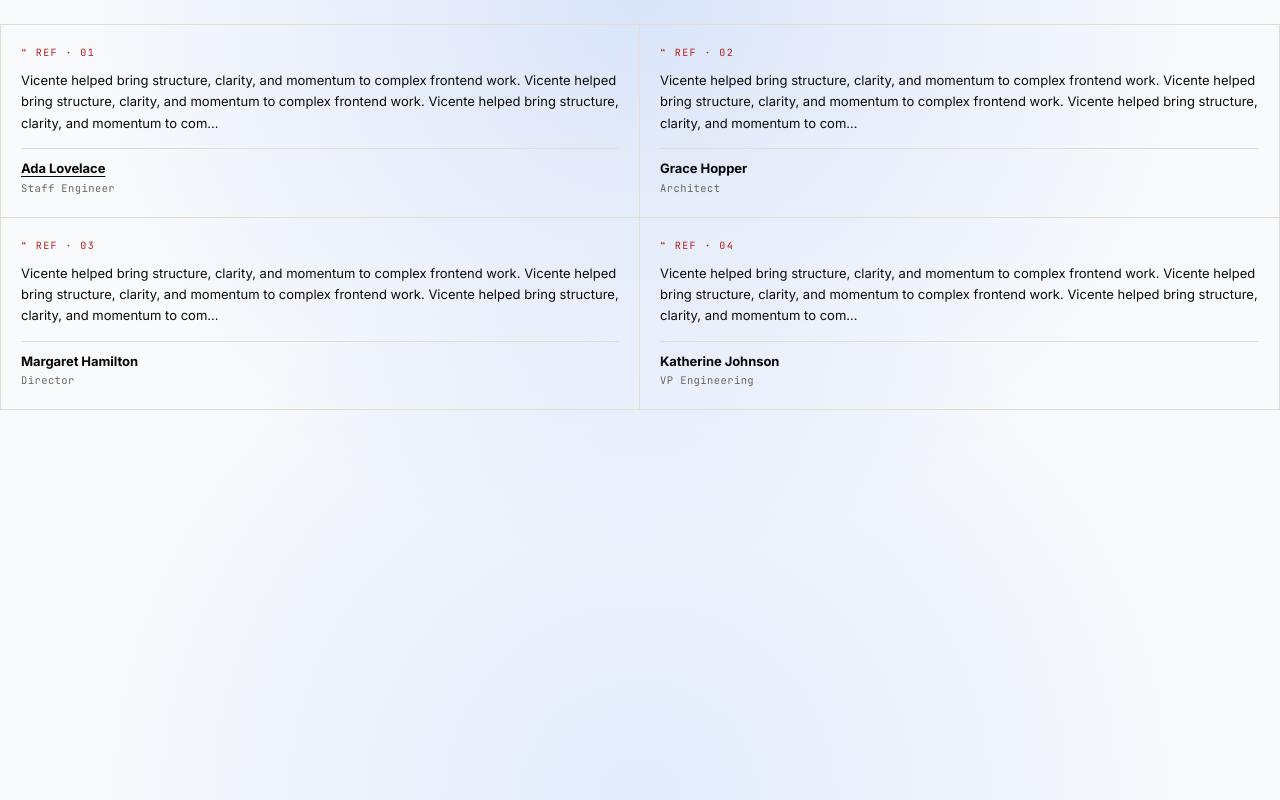
Test: CvRefsGrid › toggles expanded state on click, Enter, and Space
Click the button that starts with "❝ REF ·".
click(51, 52)  # box [1,25,640,218]
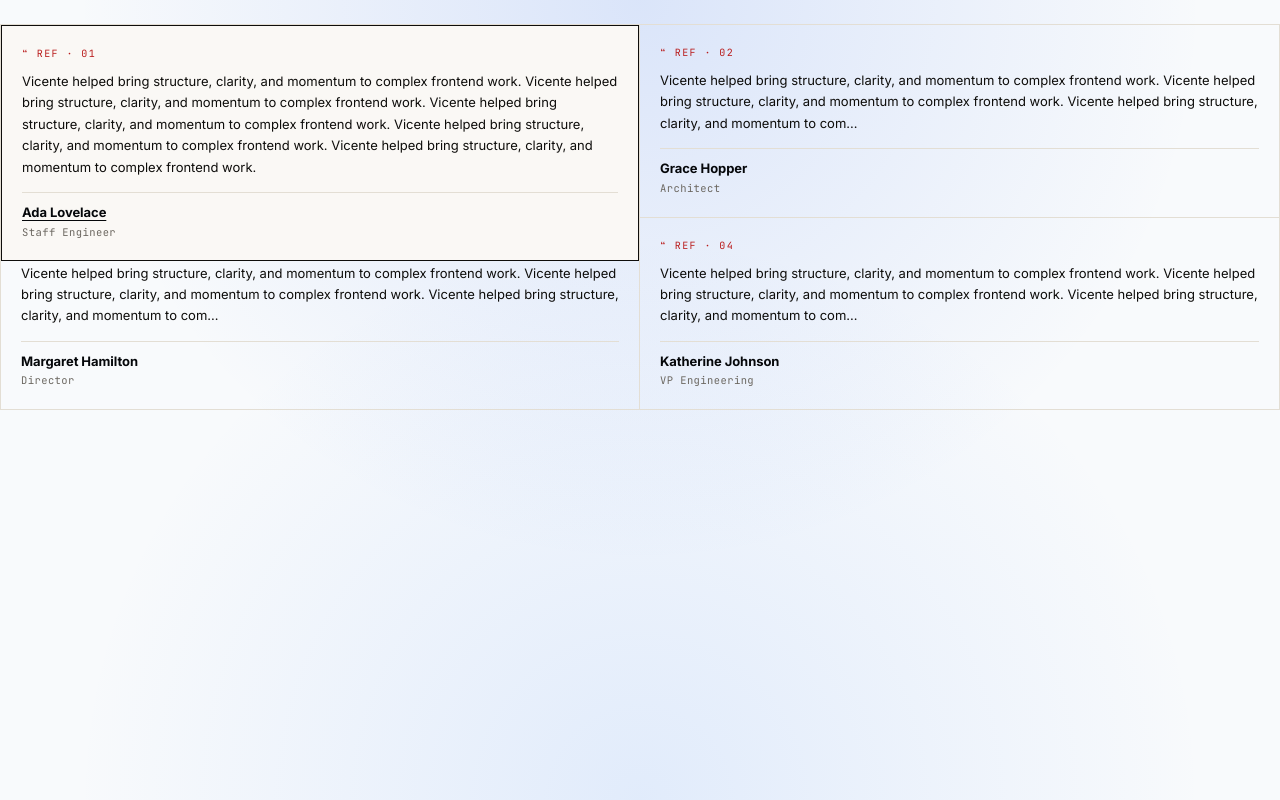
Expected: the button that starts with "❝ REF ·" is expanded
Click the button that starts with "❝ REF ·".
click(320, 121)  # box [1,25,640,218]
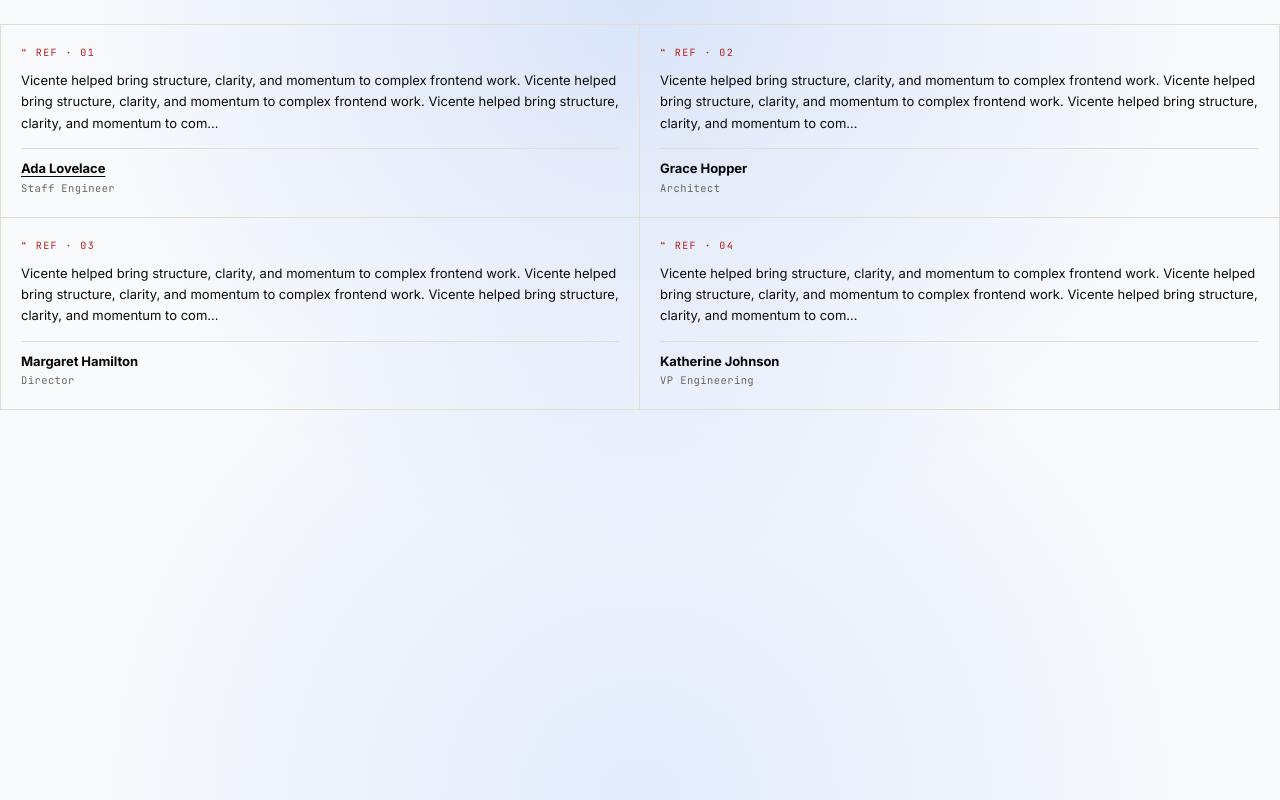
Expected: the button that starts with "❝ REF ·" is collapsed
Press Enter in the button that starts with "❝ REF ·", box [1,25,640,218]
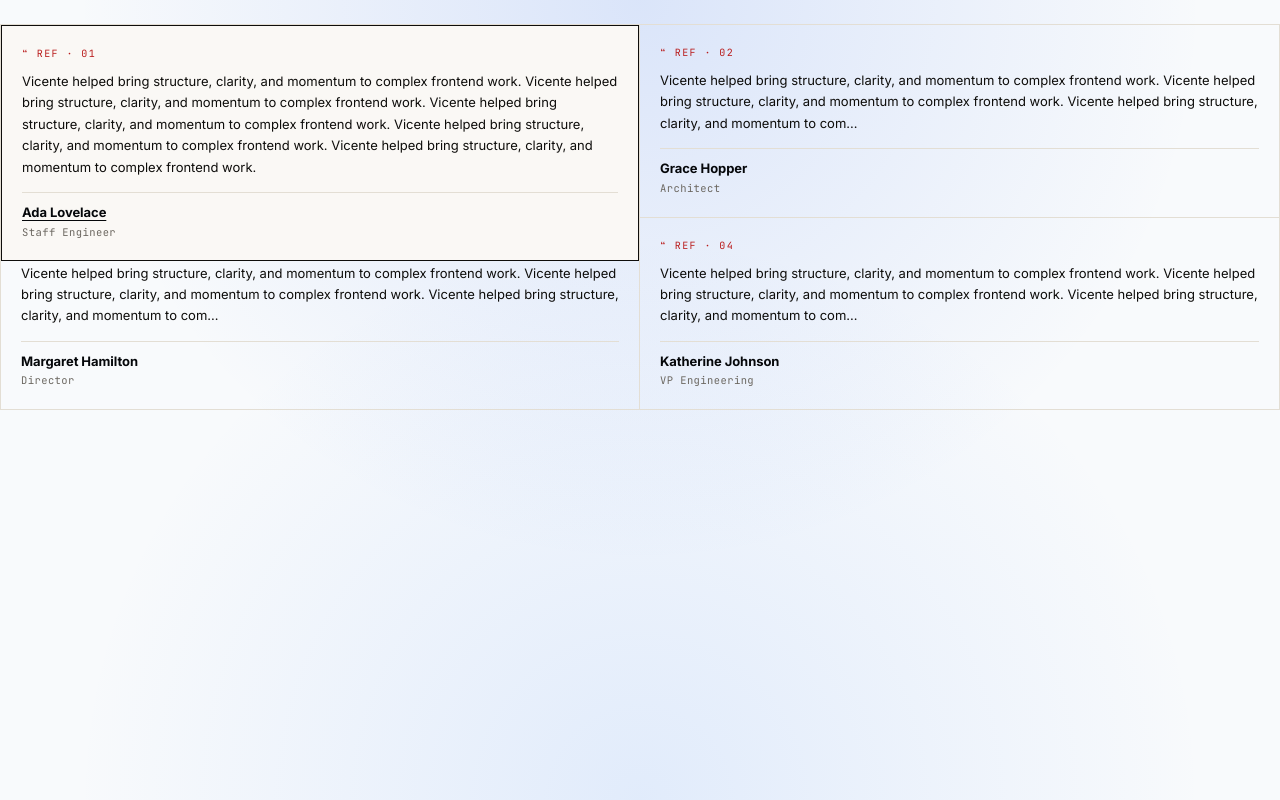
Expected: the button that starts with "❝ REF ·" is expanded
Press Space in the button that starts with "❝ REF ·", box [1,25,640,218]
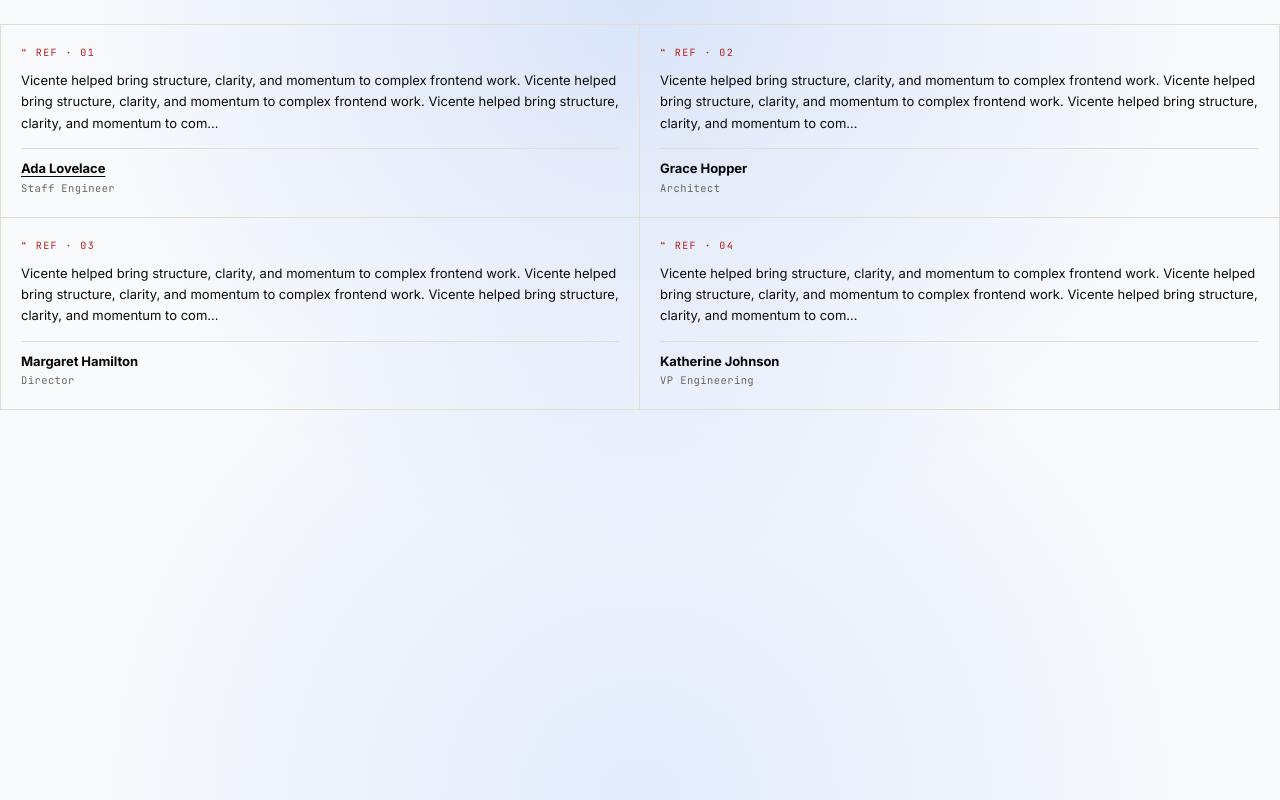
Expected: the button that starts with "❝ REF ·" is collapsed, [1,25,640,218]
